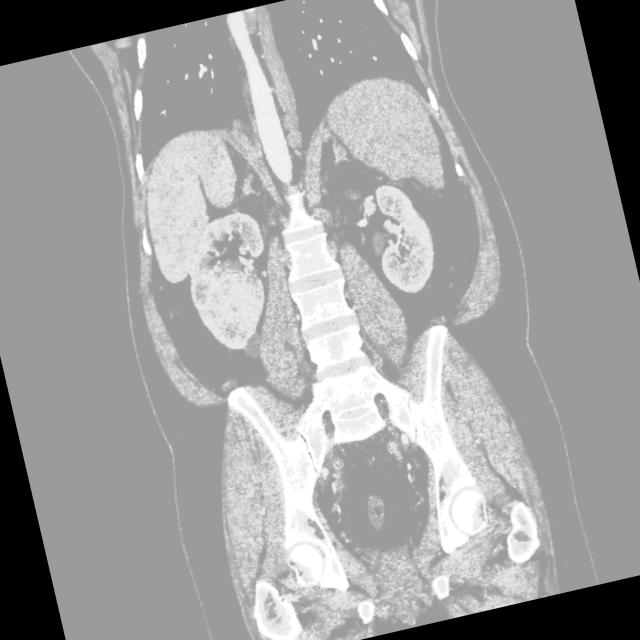TUMOR: (83, 125, 531, 500)
